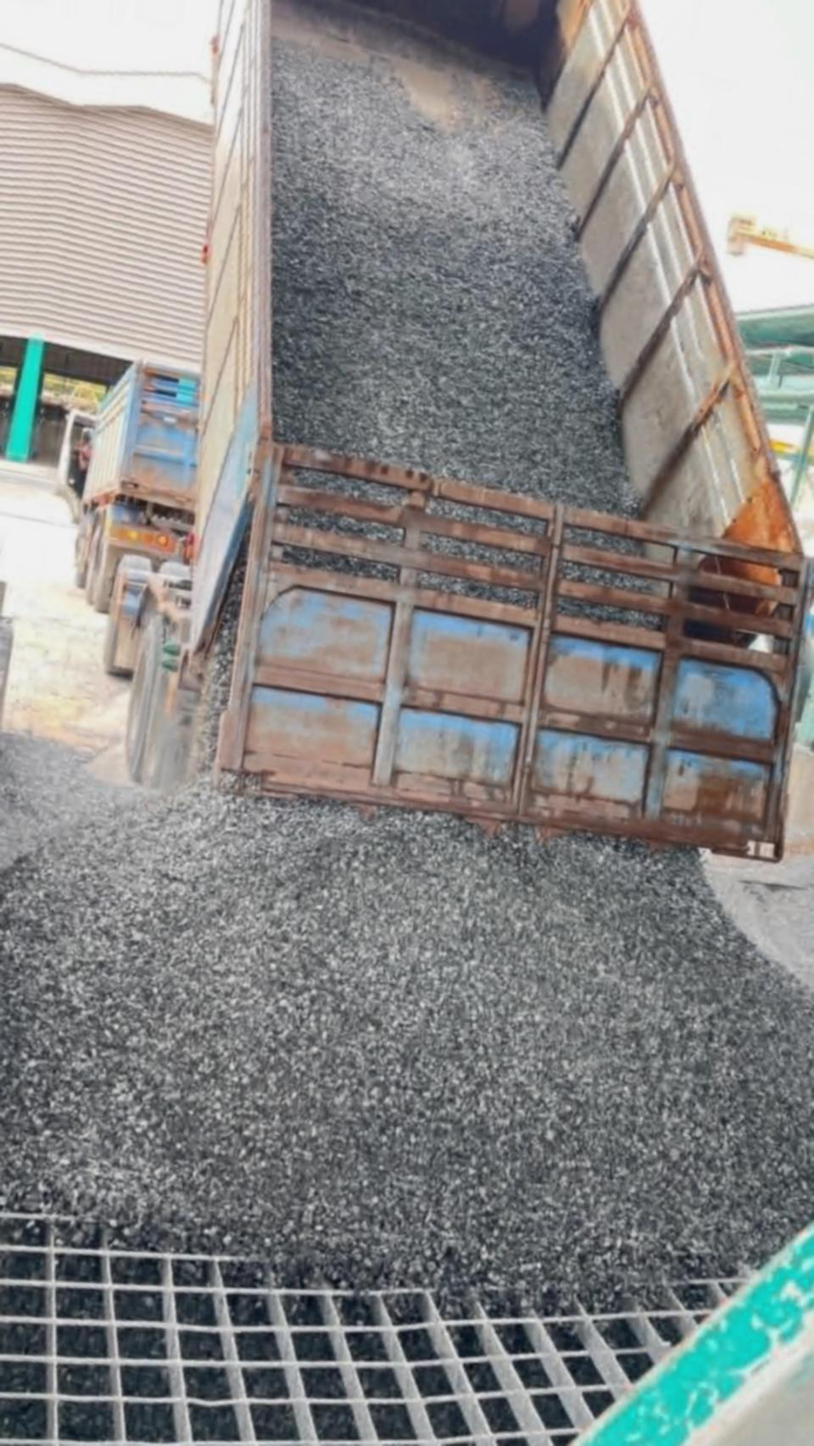gravel: (0, 779, 814, 1307), (272, 0, 631, 510), (706, 845, 814, 1070), (0, 731, 144, 889)
